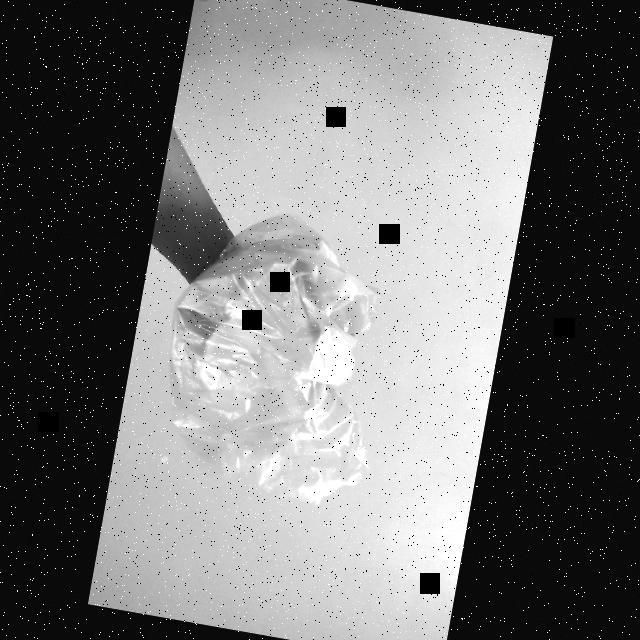plastic_bag: (142, 198, 420, 526)
